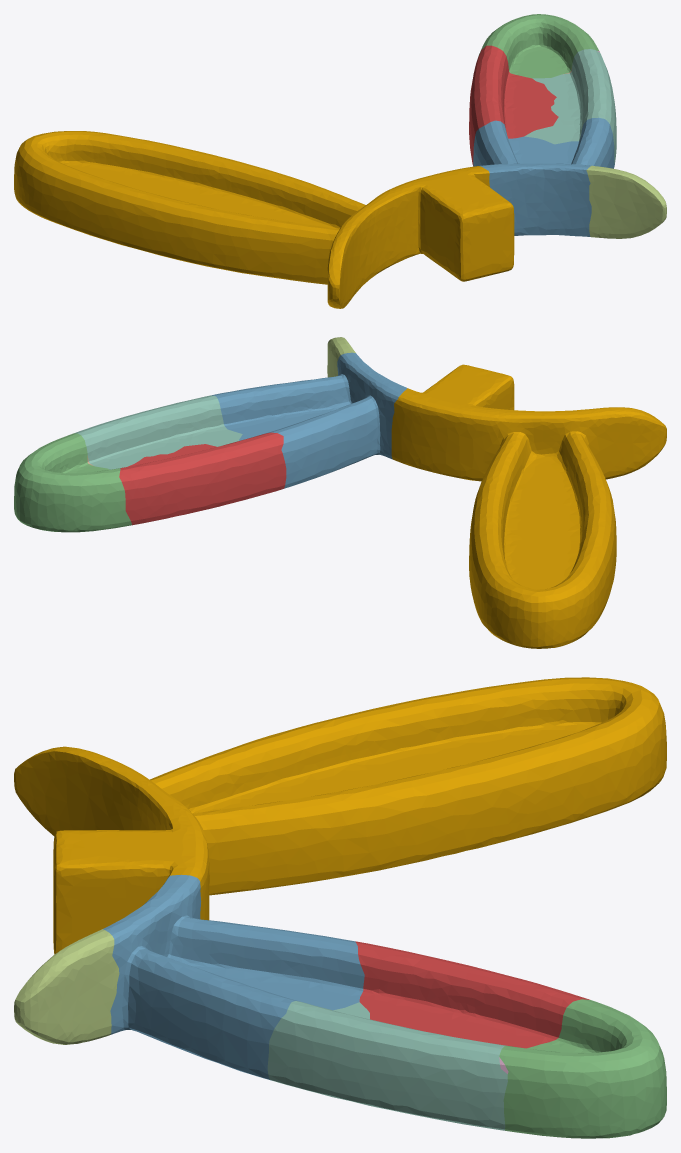
Rendered from mode_9_8pcs.glb.
3 renders of one model, top to bottom at view 1: azimuth 30°, elevation 25°; view 2: azimuth 150°, elevation 25°; view 3: azimuth 270°, elevation 25°, orthographic. The views are drawn at different scales.
Visible parts, largest first — view 1: piece_0.obj, piece_2.obj, piece_1.obj, piece_3.obj, piece_4.obj, piece_5.obj; view 2: piece_0.obj, piece_2.obj, piece_1.obj, piece_3.obj, piece_4.obj, piece_5.obj; view 3: piece_0.obj, piece_2.obj, piece_4.obj, piece_3.obj, piece_1.obj, piece_5.obj.
Boxes of the visible parts, x1,y1,x2,y2 form: piece_0.obj: (14, 131, 514, 308); piece_2.obj: (473, 117, 614, 236); piece_1.obj: (469, 45, 558, 165); piece_3.obj: (478, 14, 599, 78); piece_4.obj: (524, 49, 616, 164); piece_5.obj: (586, 165, 666, 238); piece_0.obj: (391, 364, 666, 648); piece_2.obj: (212, 352, 407, 488); piece_1.obj: (119, 432, 286, 525); piece_3.obj: (14, 433, 131, 532); piece_4.obj: (74, 395, 242, 469); piece_5.obj: (327, 337, 355, 377); piece_0.obj: (14, 677, 666, 954); piece_2.obj: (103, 874, 364, 1080); piece_4.obj: (267, 1001, 507, 1130); piece_3.obj: (499, 999, 666, 1138); piece_1.obj: (355, 941, 589, 1048); piece_5.obj: (14, 929, 119, 1044).
Size of the model in its own units: 1 by 0.1158 by 0.6933.
